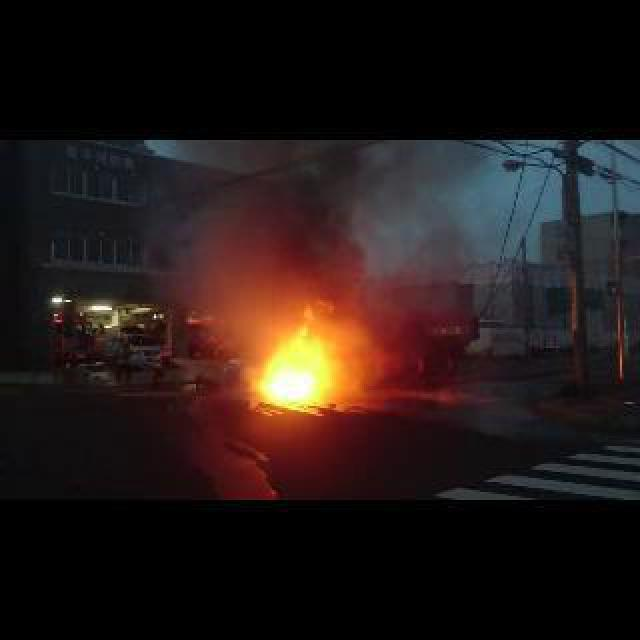smoke: (176, 134, 502, 316)
zfire: (250, 328, 338, 402)
